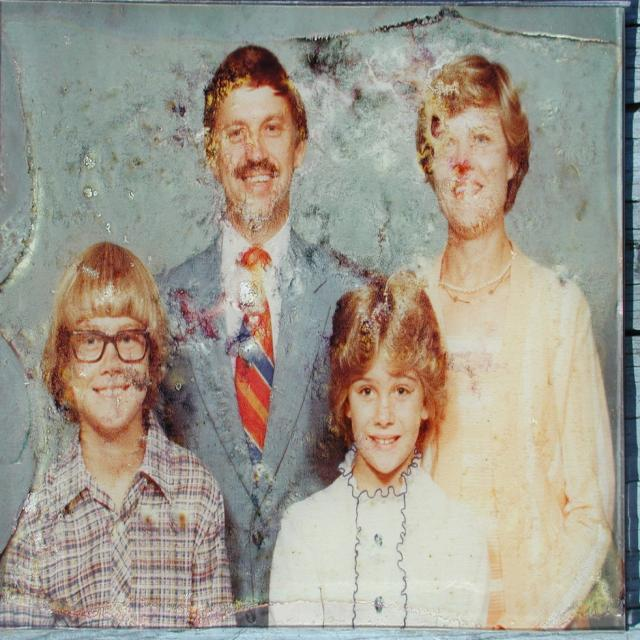Glasses: (64, 331, 150, 365)
